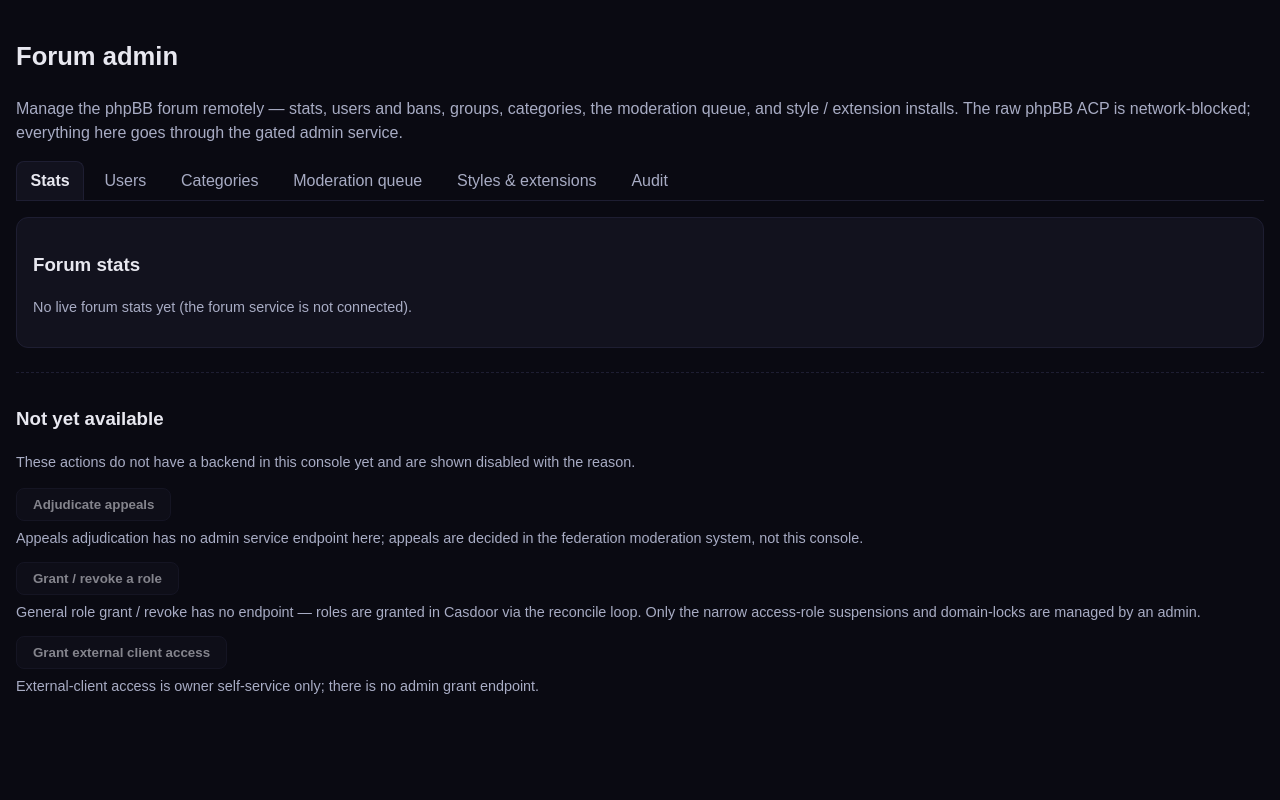
ForumAdminComponent › KEYBOARD operability (tablist roving tabindex + Arrow keys) › Enter / Space on a tab activates it (native button), switching the panel
Click the tab "Users" at (125, 181), box [90,161,161,200]
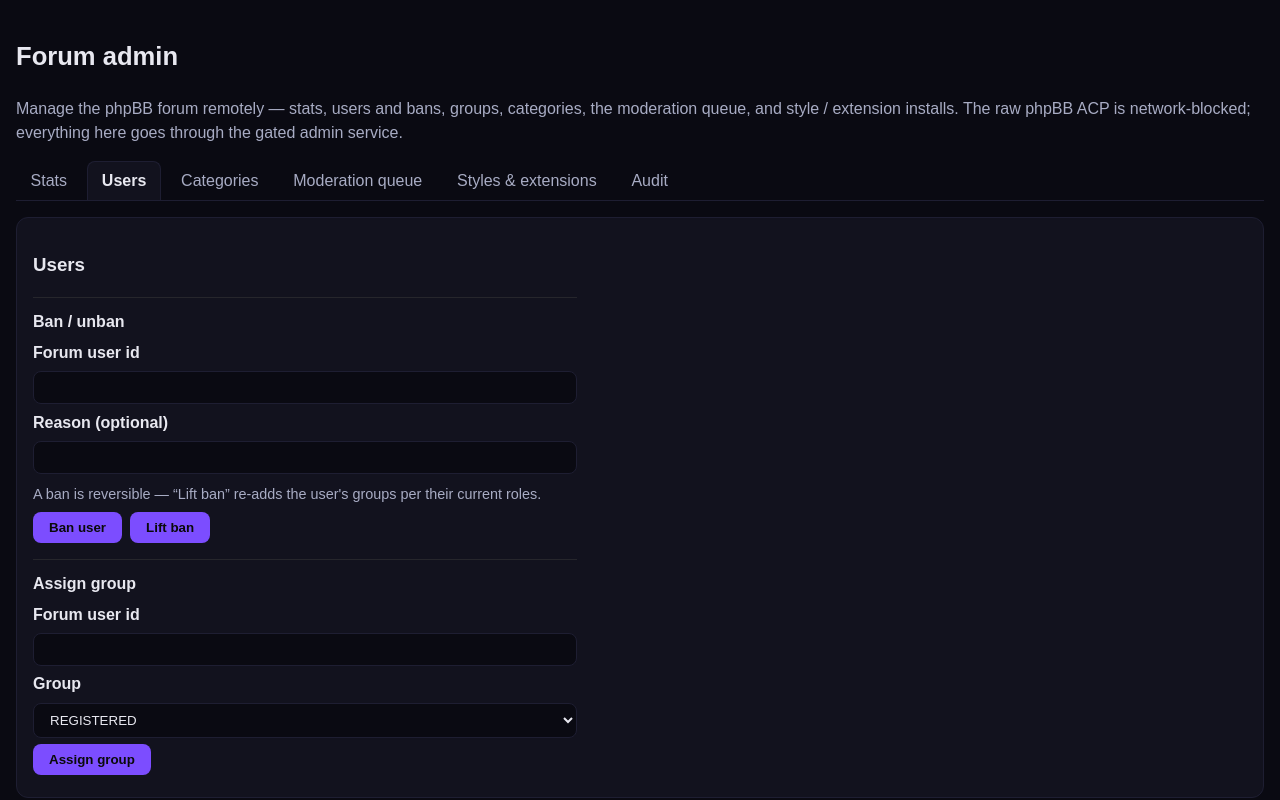
Expected: the panel with test id "fa-panel-users" is shown
